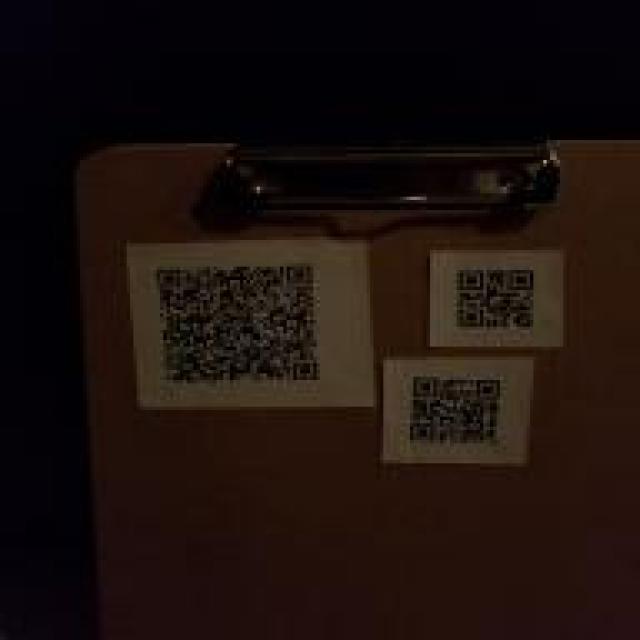qr_code: (157, 264, 320, 383), (409, 376, 500, 443), (456, 268, 535, 329)
